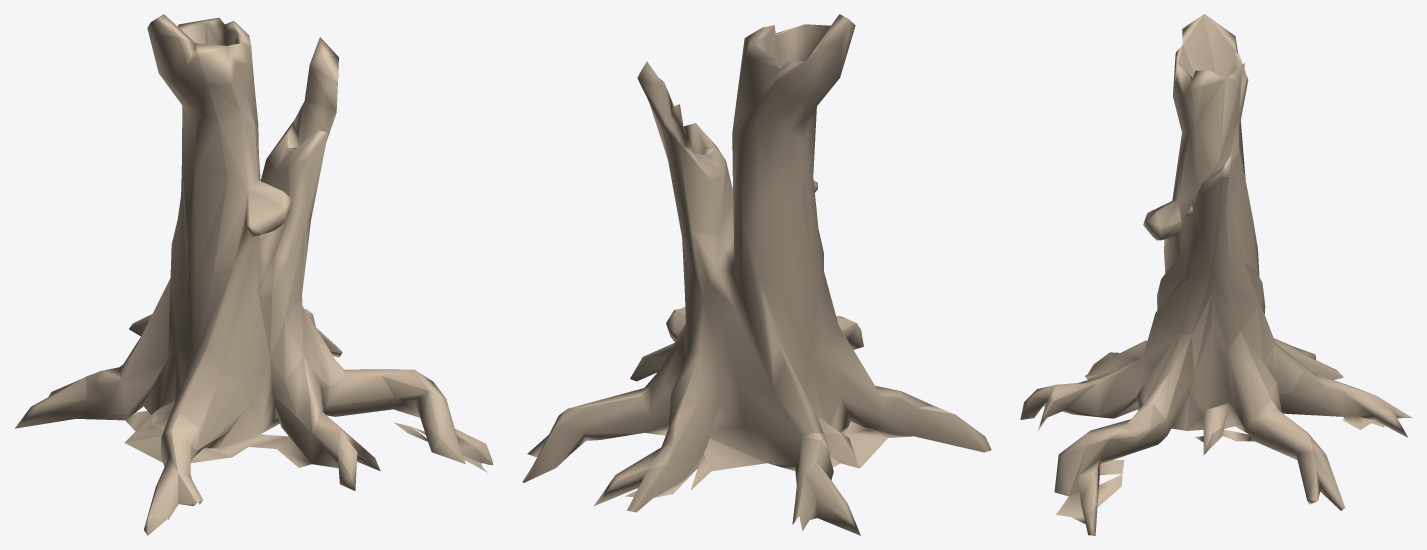
Rendered from terrain3_oak_0.glb.
3 renders of one model, left to right at view 1: azimuth 30°, elevation 25°; view 2: azimuth 150°, elevation 25°; view 3: azimuth 270°, elevation 25°, orthographic. The views are drawn at different scales.
Visible parts, largest first — view 1: oak_0; view 2: oak_0; view 3: oak_0.
Boxes of the visible parts, left/top/right/bottom form: oak_0: left=15, top=14, right=493, bottom=535; oak_0: left=522, top=14, right=991, bottom=535; oak_0: left=1020, top=14, right=1412, bottom=535.
Size of the model in its own units: 25.94 by 33 by 28.64.
1 material, 1 textured.
